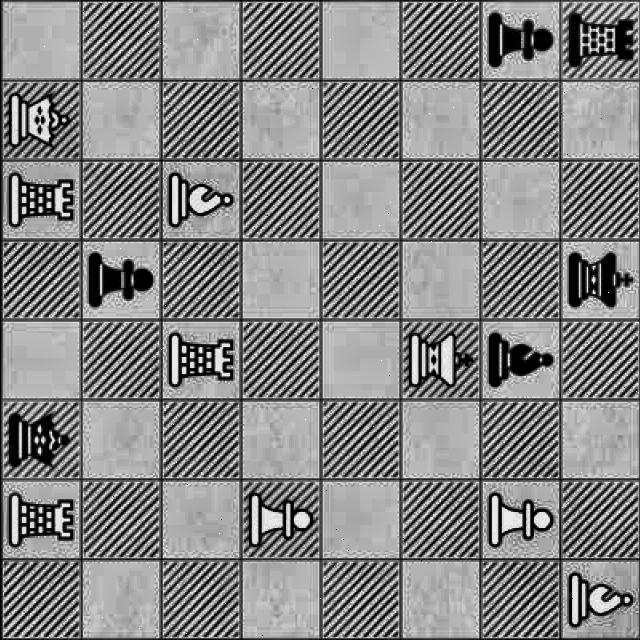black bishop: (482, 330, 560, 398)
black king: (556, 248, 636, 316)
black pawn: (478, 0, 558, 79), (87, 247, 162, 314)
black queen: (0, 404, 84, 474)
black rook: (561, 3, 640, 83)
white bishop: (166, 164, 243, 238), (560, 564, 636, 636)
white king: (406, 321, 478, 399)
white pawn: (476, 478, 564, 554), (243, 482, 319, 562)
white queen: (1, 78, 82, 164), (0, 89, 80, 154)
white rook: (5, 168, 81, 232), (161, 327, 235, 392), (0, 494, 79, 554)
